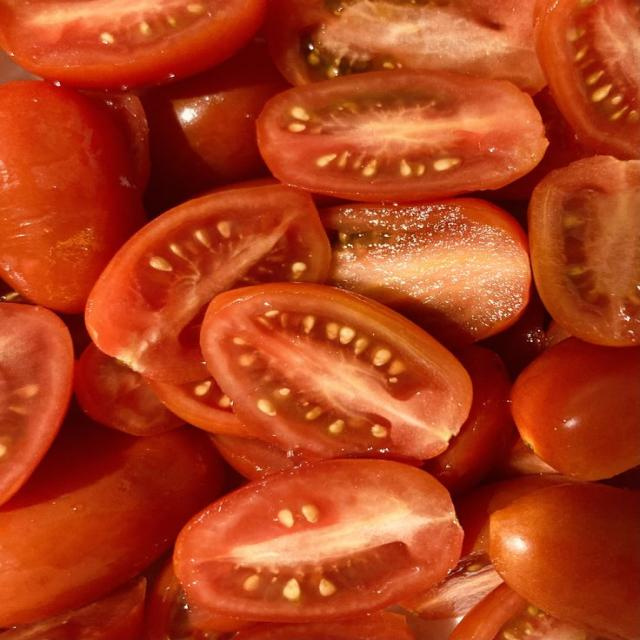sliced tomatoe: (0, 410, 225, 627), (86, 185, 330, 383), (201, 283, 472, 458), (174, 460, 462, 622), (258, 70, 547, 201), (0, 81, 146, 313), (321, 198, 531, 346), (267, 0, 546, 93), (141, 39, 289, 211), (0, 0, 266, 89), (489, 483, 639, 638), (528, 156, 639, 346), (512, 337, 639, 480), (536, 0, 639, 159), (0, 303, 73, 504), (423, 346, 515, 494), (74, 343, 185, 435), (139, 558, 252, 639), (0, 577, 146, 639), (449, 584, 604, 639), (402, 552, 502, 620), (147, 376, 249, 436), (234, 611, 414, 639), (211, 434, 309, 479)
